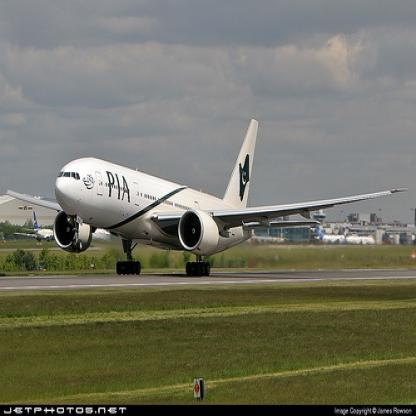aeroplane: (6, 115, 408, 280)
